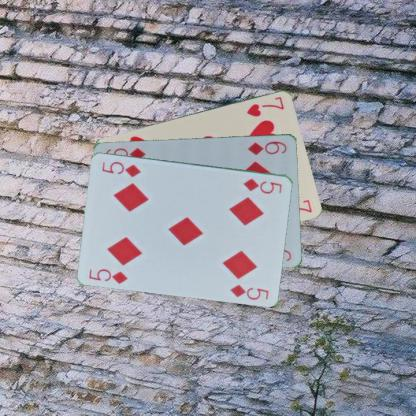5d: (241, 175, 284, 195), (87, 266, 130, 285)
6d: (245, 138, 288, 156)
7h: (244, 93, 286, 118)
